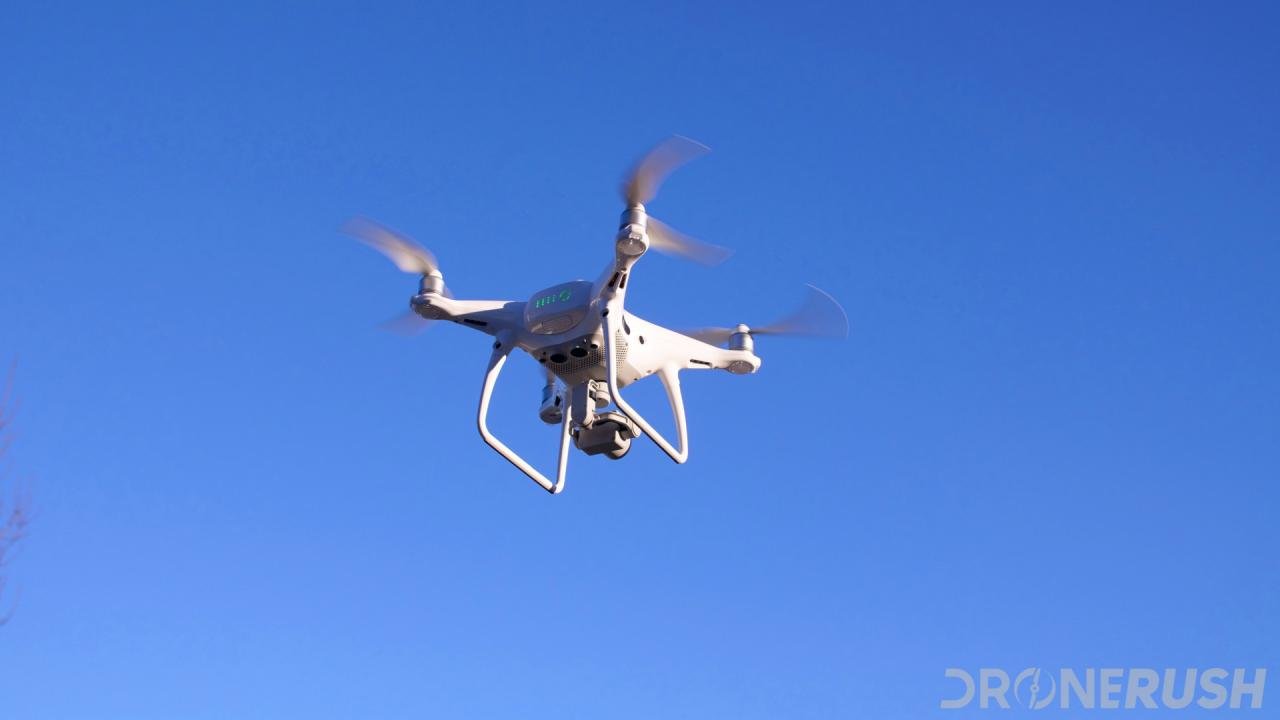Drone: (316, 122, 873, 514)
